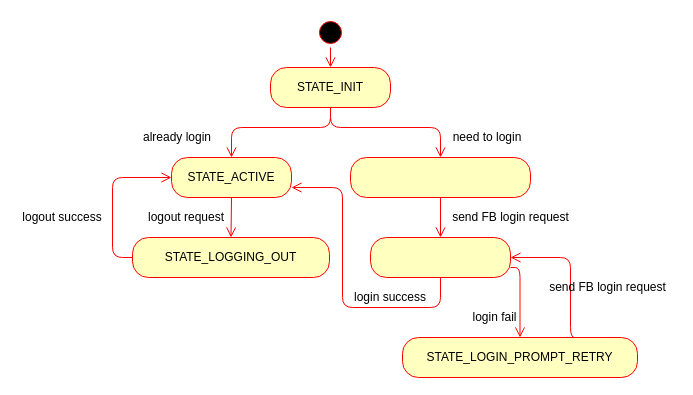
Image size: 693x395. Some labels were removed from this diagram. The box of each missing label's shape, as (x1, y1, x2, y2) in pixels:
STATE_LOGGING_IN: (370, 236, 510, 278)
STATE_LOGIN_PROMPT: (350, 156, 530, 198)
